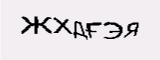М: (102, 4, 125, 34), (35, 11, 58, 36)
О: (83, 1, 102, 27)
С: (64, 2, 81, 30)
Т: (54, 6, 68, 33)
